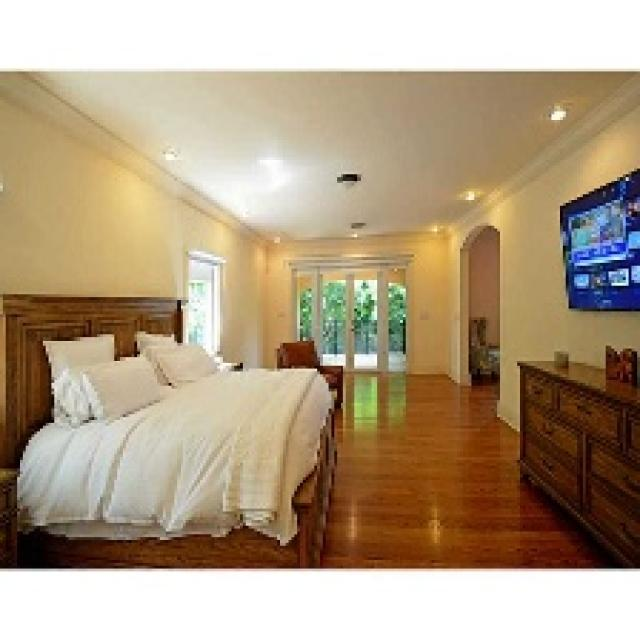Bed: (0, 291, 337, 566)
